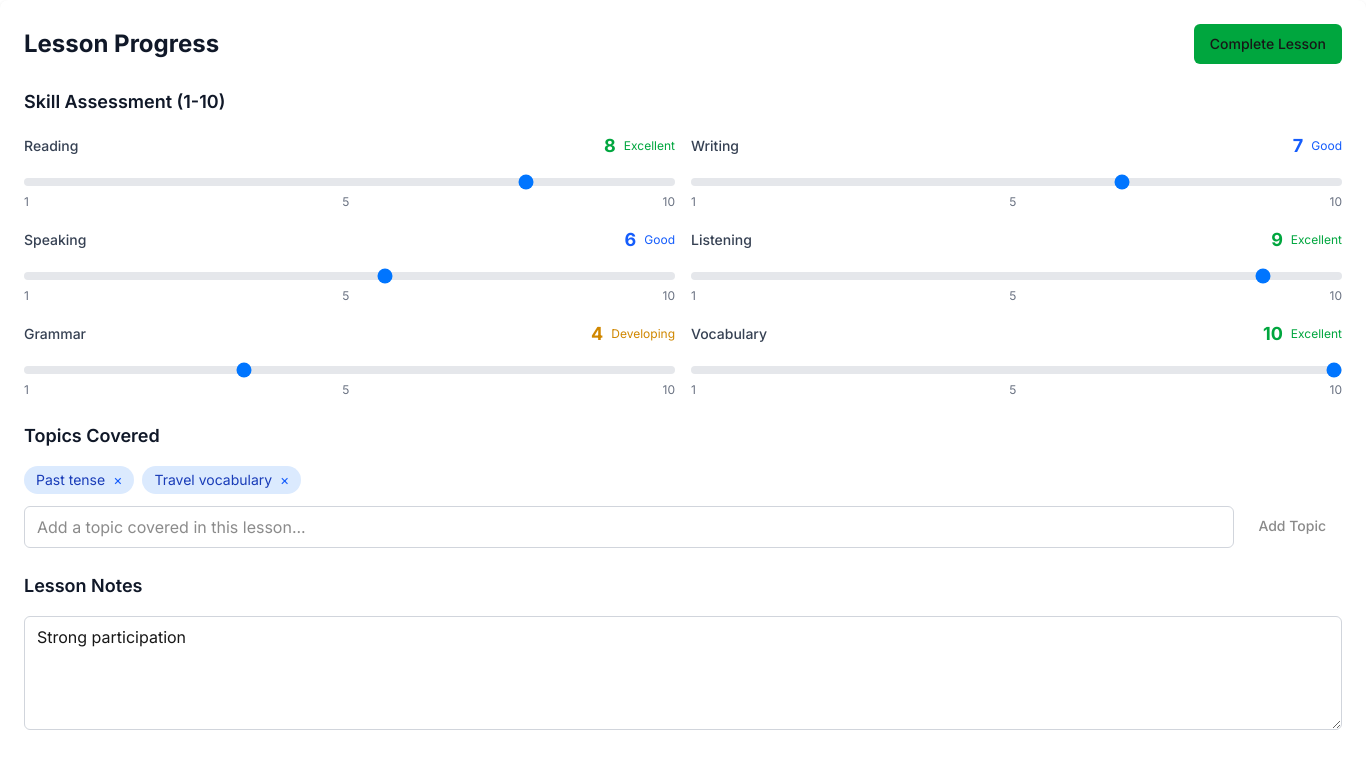
it: ProgressTracker existing-data initialization › marks the draft changed after a user edit
The image size is (1366, 764).
Replace the text in the text box showing "Strong participation" with "Updated notes": (683, 673) left=24, top=616, right=1342, bottom=730
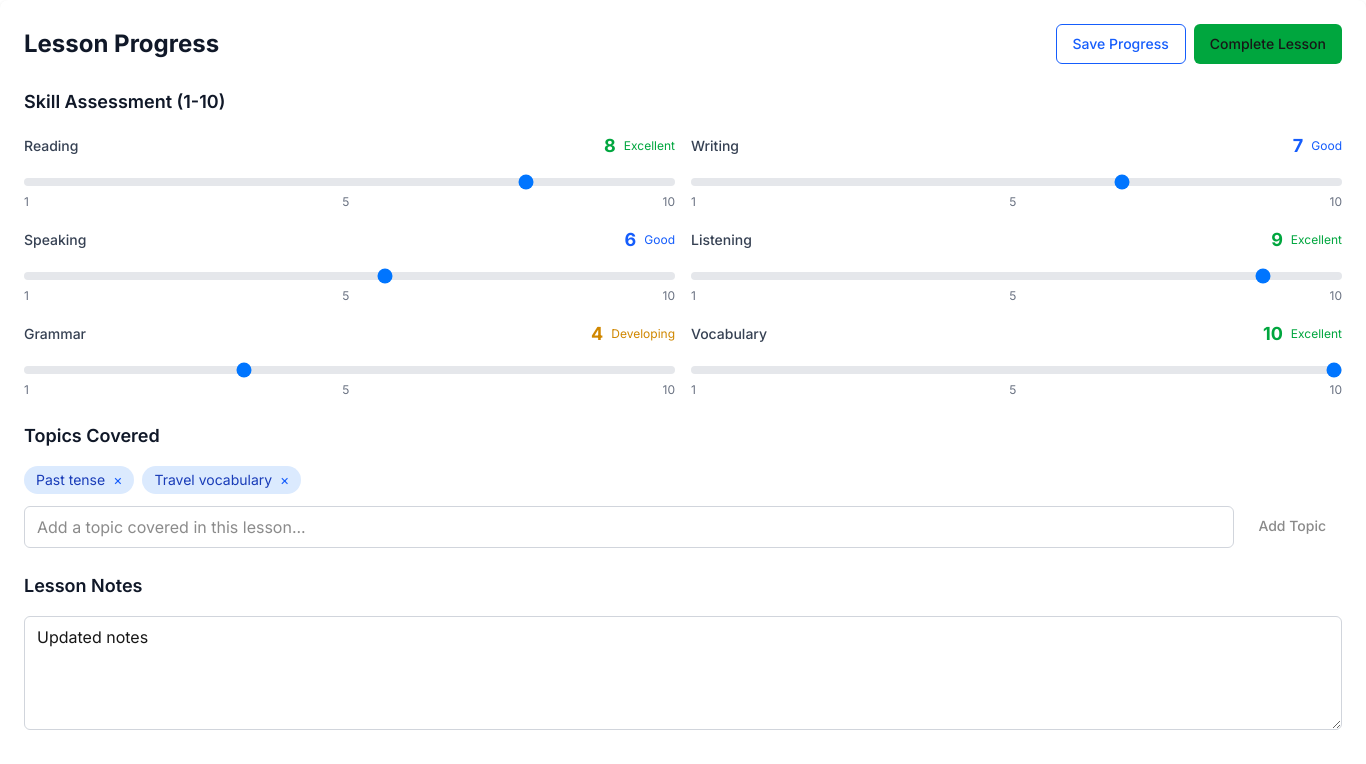
Check: the button "Save Progress" is shown, box left=1056, top=24, right=1186, bottom=64
